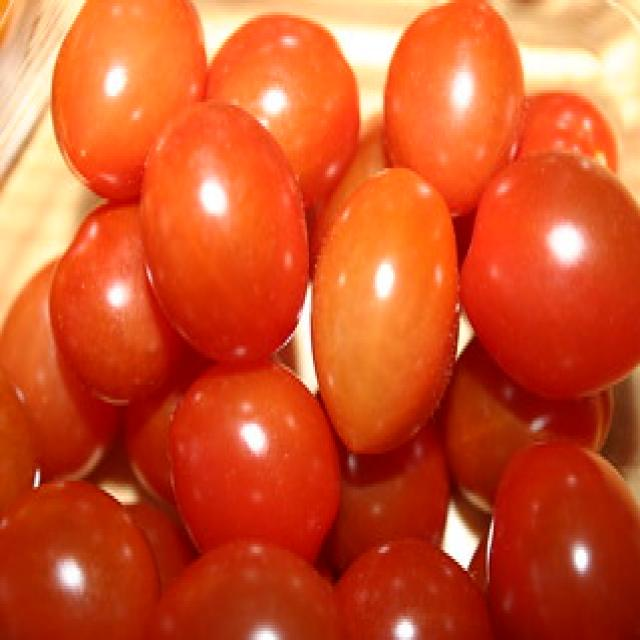Tomato: (135, 100, 308, 370), (455, 151, 640, 399), (307, 166, 463, 459), (155, 367, 342, 572), (45, 0, 203, 211), (378, 1, 529, 221), (196, 10, 363, 204), (48, 204, 198, 412)
